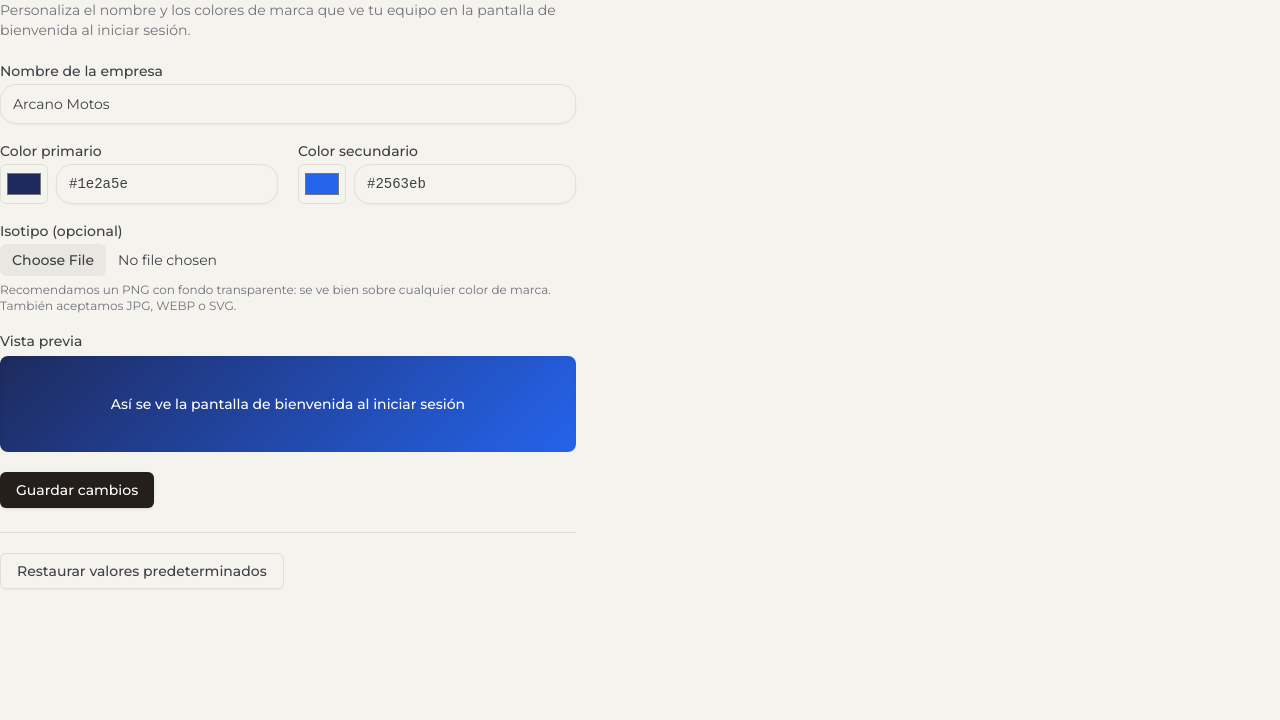
Test: ConfiguracionEmpresaPage — restaurar valores predeterminados › el texto del diálogo advierte la pérdida de cambios y la necesidad de recargar
Expected: the field labelled "Nombre de la empresa" is shown, [0,84,576,124]
Click the button "Restaurar valores predeterminados" at (142, 571), box [0,553,284,589]
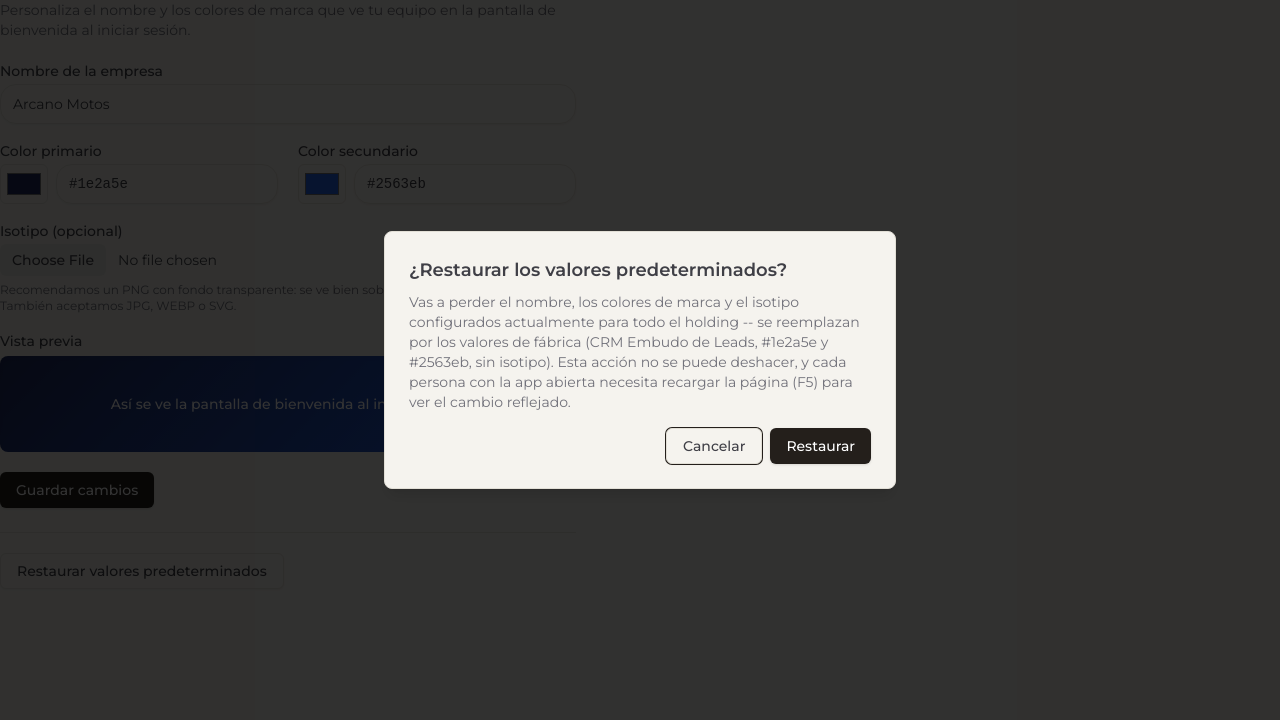
Now the dialog shows "perder", box [409,293,860,351]
Now the dialog shows "recarg", box [409,353,853,411]
